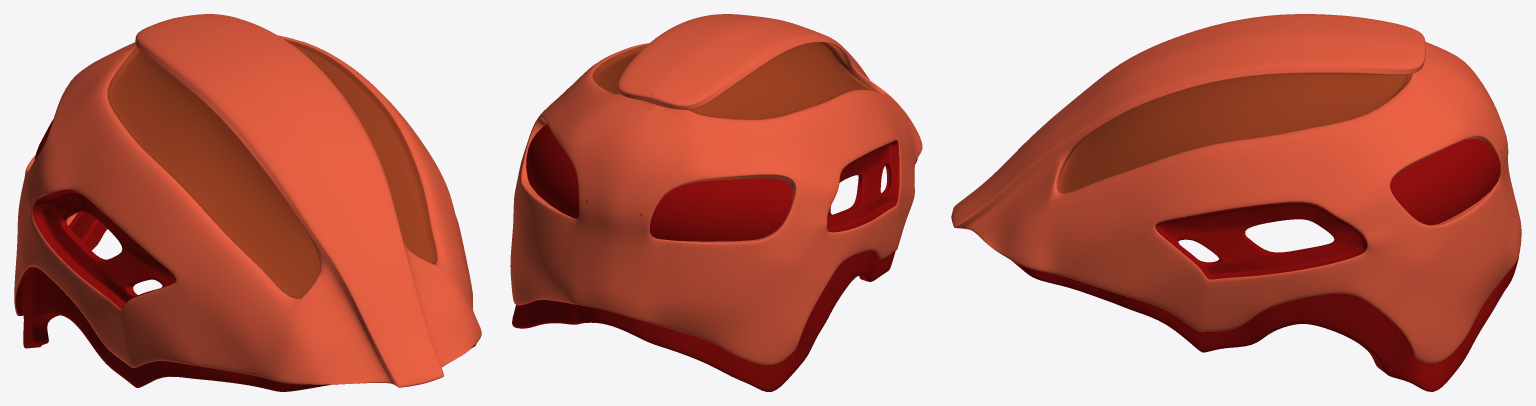
Rendered from helmet1.glb.
3 renders of one model, left to right at view 1: azimuth 30°, elevation 25°; view 2: azimuth 150°, elevation 25°; view 3: azimuth 270°, elevation 25°, orthographic. The views are drawn at different scales.
Visible parts, largest first — view 1: helmet; view 2: helmet; view 3: helmet.
Part boxes in pixels (x1,y1,x2,y2): helmet: (14,14,481,391); helmet: (510,14,922,391); helmet: (951,14,1521,391).
Size of the model in its own units: 0.1839 by 0.154 by 0.2713.
